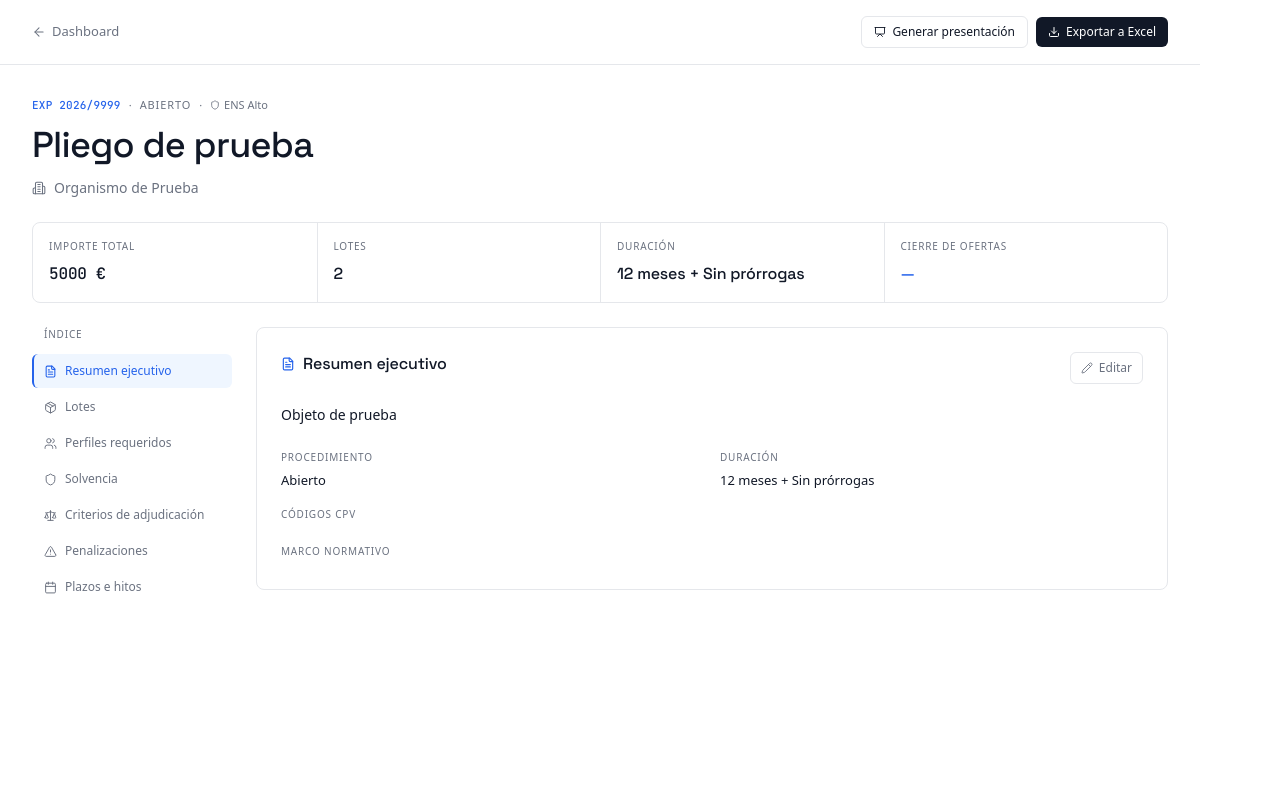
Test: Analysis - aviso de descuadre lotes vs importe › muestra el aviso cuando la suma de los lotes no coincide con el importe del pliego
The image size is (1280, 800).
Click the button "Lotes" at {"x": 132, "y": 407}, box top-left (32, 390), bottom-right (232, 424)
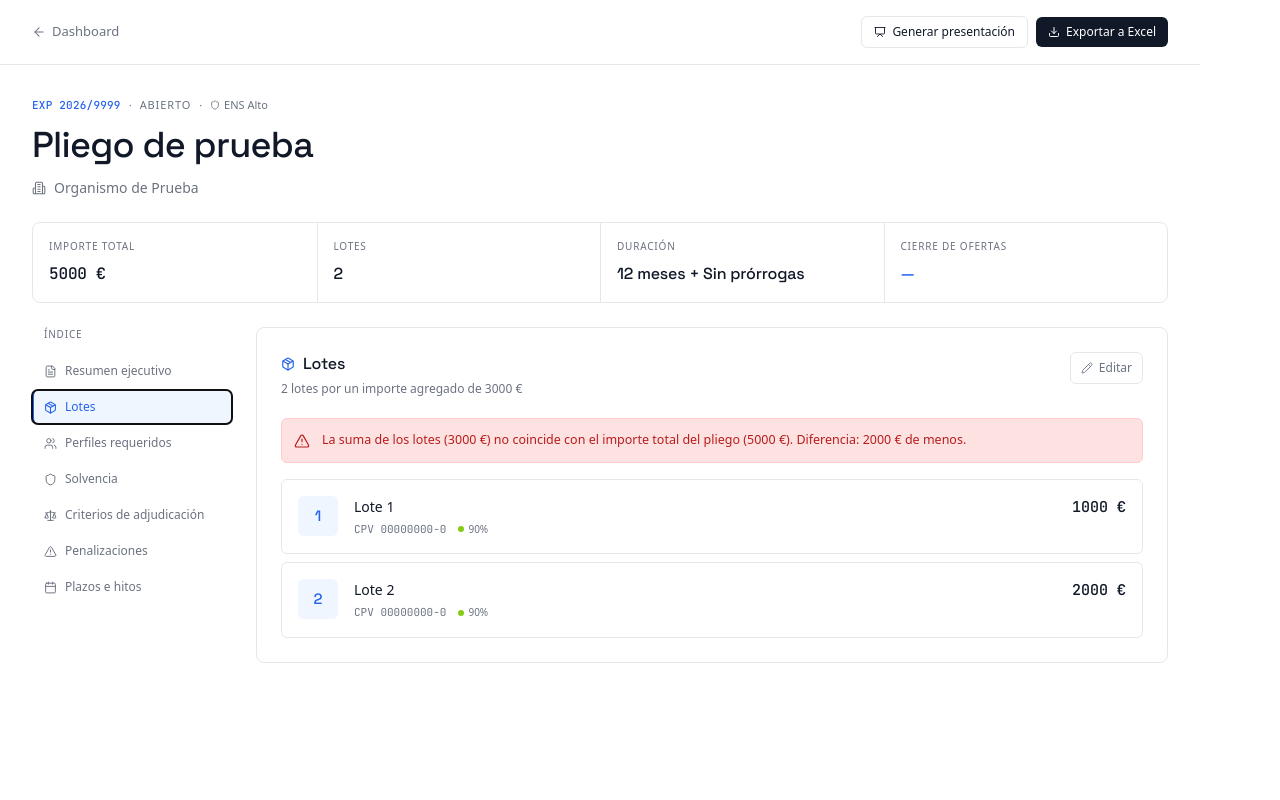
Expected: the text "no coincide con el importe total del pliego" is shown, top-left (487, 431), bottom-right (747, 448)
Expected: the text "de menos" is shown, top-left (905, 431), bottom-right (963, 448)
